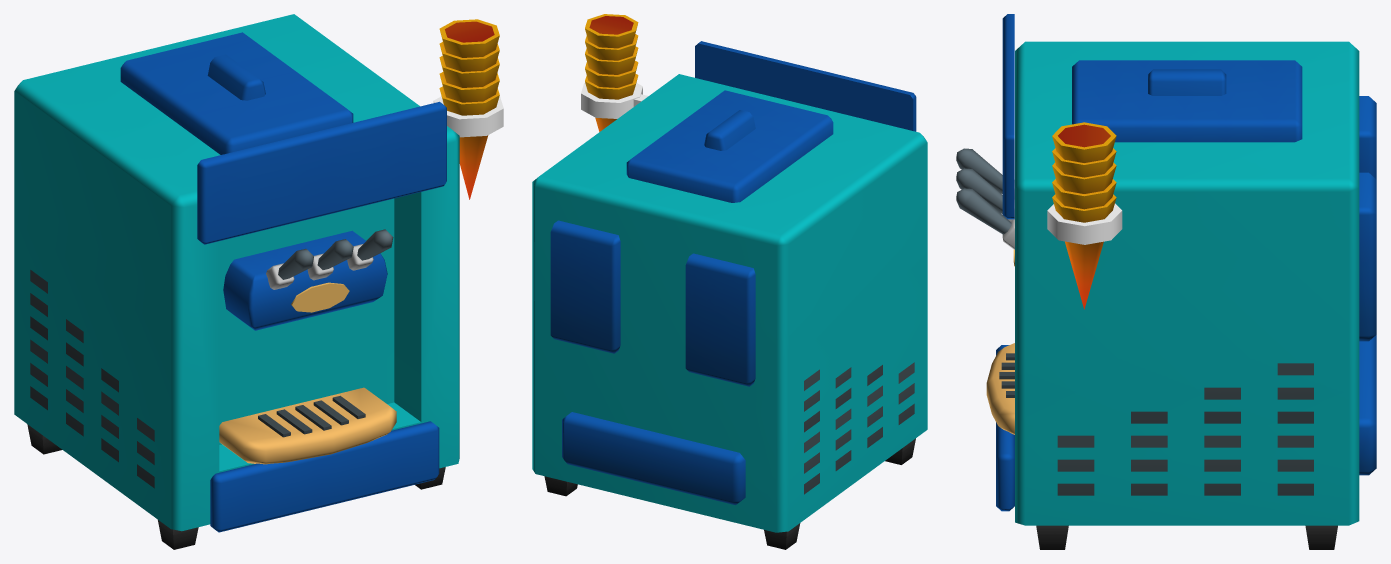
Rendered from Decor_Maylamkem_02.fbx.
3 views of the same model, side by side, from view 1: azimuth 30°, elevation 25°; view 2: azimuth 150°, elevation 25°; view 3: azimuth 270°, elevation 25° (orthographic). The views are drawn at different scales.
Visible parts, largest first — view 1: Decor_Maylamkem_02; view 2: Decor_Maylamkem_02; view 3: Decor_Maylamkem_02.
Boxes of the visible parts, x1=… form: Decor_Maylamkem_02: x1=14, y1=14, x2=503, y2=549; Decor_Maylamkem_02: x1=532, y1=14, x2=927, y2=549; Decor_Maylamkem_02: x1=956, y1=14, x2=1376, y2=549.
Bounding box in the file's own units: 121 × 137 × 119.
